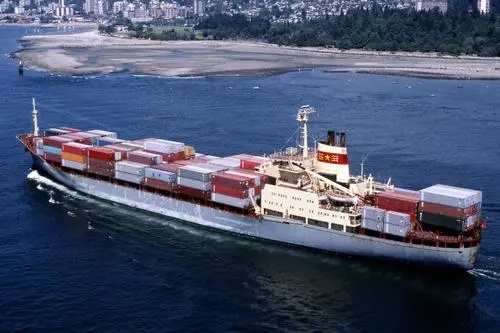Cargoship: (14, 97, 487, 269)
